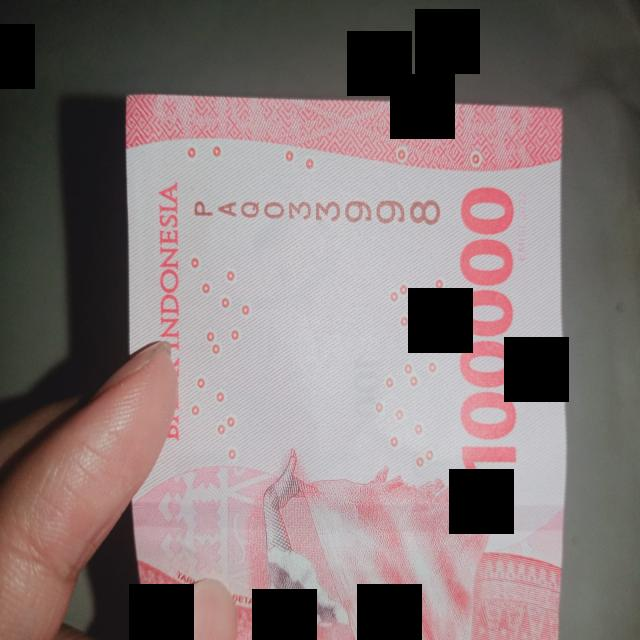seratusribu rupiah: (126, 95, 566, 638)
